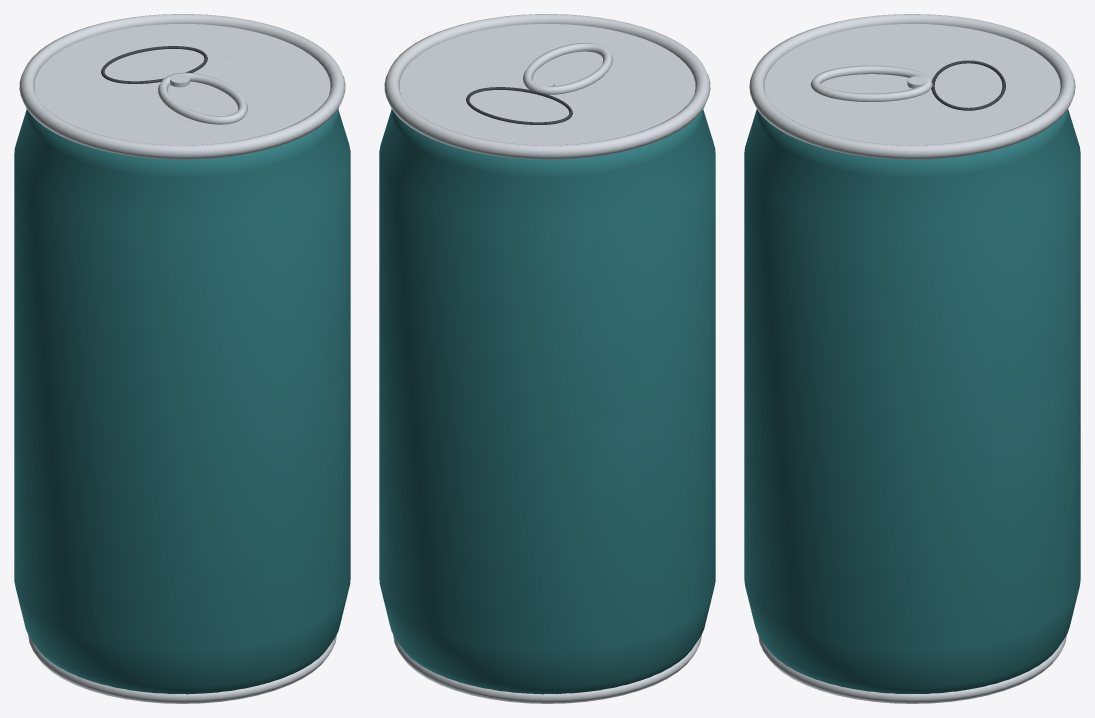
File: innerscene-can.glb
3 views of the same model, side by side, from view 1: azimuth 30°, elevation 25°; view 2: azimuth 150°, elevation 25°; view 3: azimuth 270°, elevation 25° (orthographic).
Parts seen in each view (by area): view 1: Drawn aluminium can body, Closed scored can lid, Rolled can top seam, Can lower standing seam, Lift tab with real finger hole, Unopened score line; view 2: Drawn aluminium can body, Closed scored can lid, Rolled can top seam, Can lower standing seam, Lift tab with real finger hole, Unopened score line; view 3: Drawn aluminium can body, Closed scored can lid, Rolled can top seam, Can lower standing seam, Lift tab with real finger hole, Unopened score line.
Part boxes in pixels (box(x1,y1,x2,y2)): Drawn aluminium can body: box(14, 108, 350, 694); Closed scored can lid: box(34, 24, 330, 145); Rolled can top seam: box(19, 14, 345, 159); Can lower standing seam: box(28, 634, 336, 703); Lift tab with real finger hole: box(158, 72, 247, 124); Unopened score line: box(101, 46, 207, 83); Drawn aluminium can body: box(379, 108, 715, 694); Closed scored can lid: box(399, 24, 695, 145); Rolled can top seam: box(384, 14, 710, 159); Can lower standing seam: box(393, 634, 701, 703); Lift tab with real finger hole: box(523, 43, 612, 94); Unopened score line: box(466, 87, 572, 124); Drawn aluminium can body: box(744, 109, 1080, 693); Closed scored can lid: box(764, 24, 1060, 145); Rolled can top seam: box(749, 14, 1075, 159); Can lower standing seam: box(758, 635, 1066, 703); Lift tab with real finger hole: box(810, 65, 932, 101); Unopened score line: box(931, 60, 1005, 110).
Size of the model in its own units: 0.066 by 0.122 by 0.066.
Materials: 3 (3 with a texture image).
